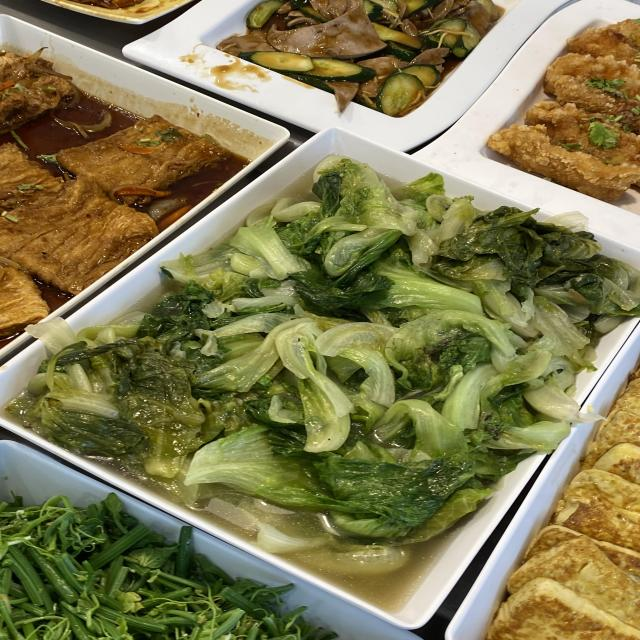Fushan-lettuce: (224, 223, 550, 452)
